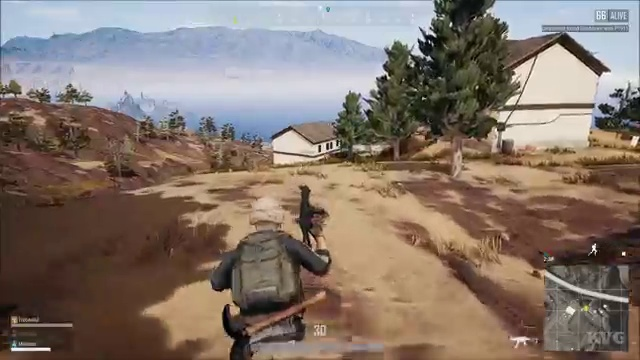Player: (205, 180, 352, 313)
